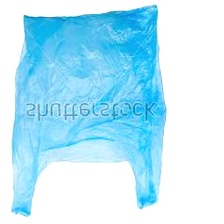plastic_bag: (0, 3, 173, 219)
